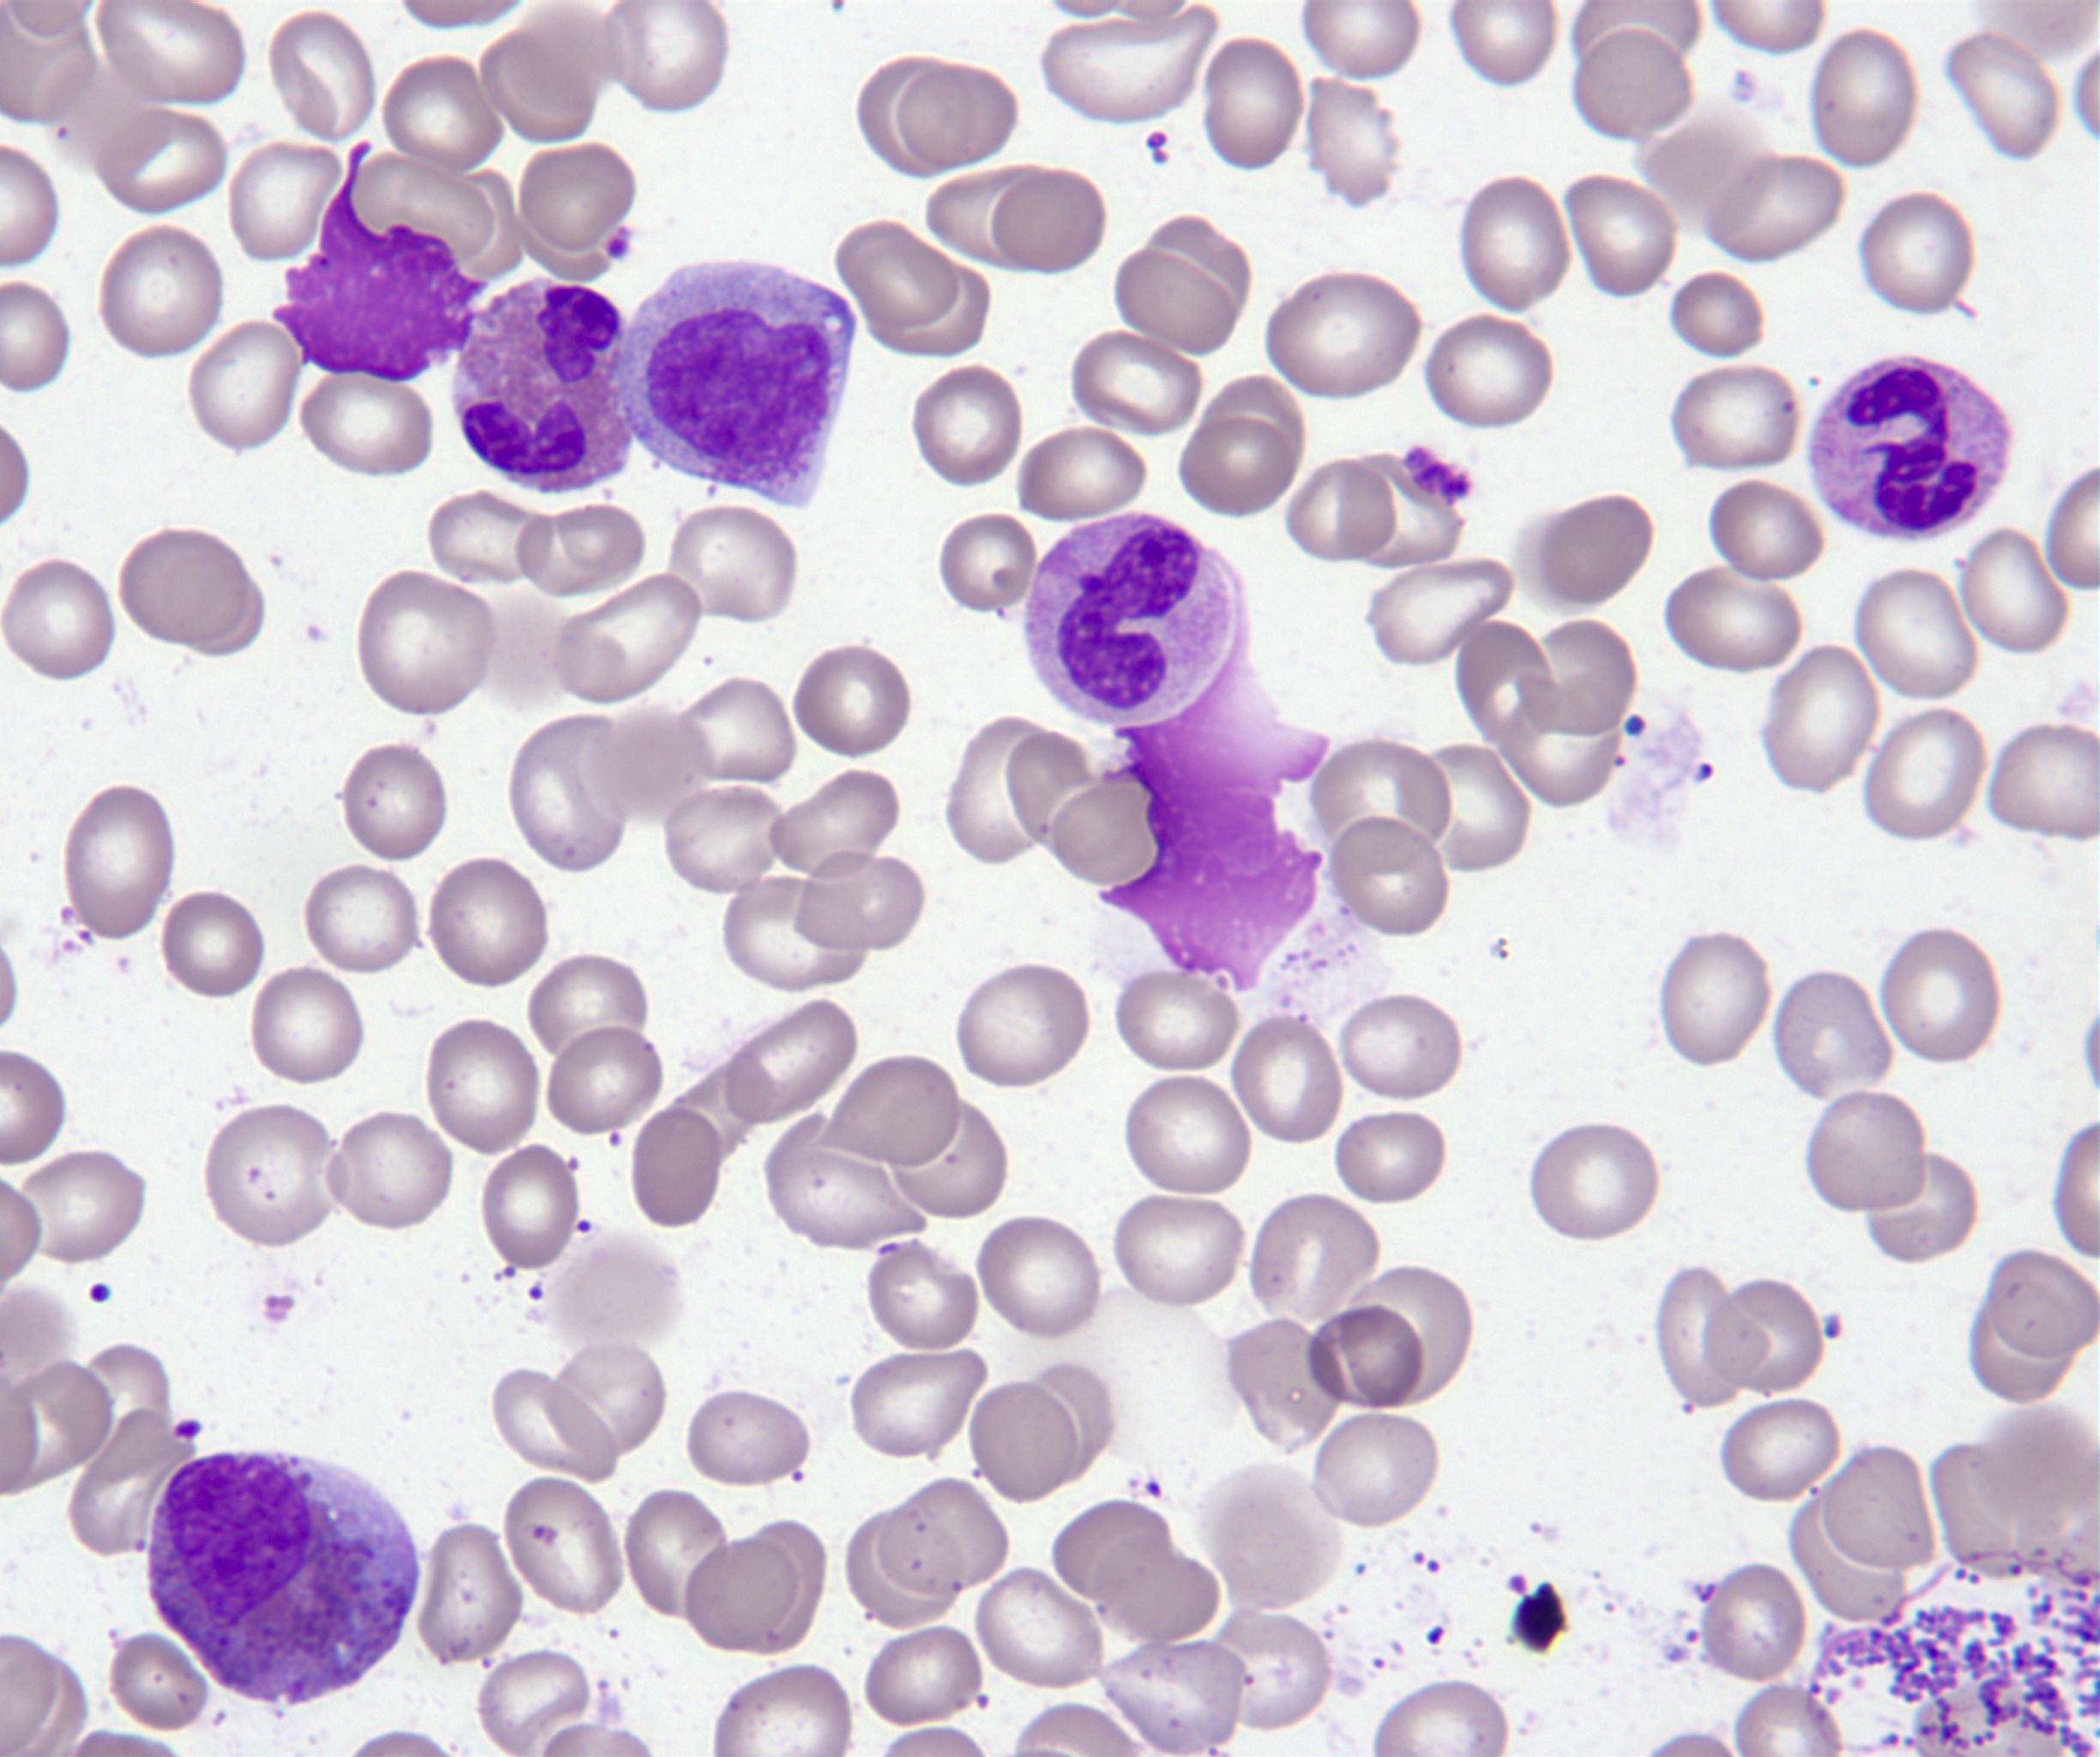3: (617, 260, 856, 508)
5: (1026, 515, 1237, 729)
6: (1810, 354, 2013, 541)
E1: (150, 1453, 419, 1706)
E4: (452, 276, 633, 492)
x: (1099, 621, 1329, 989), (272, 141, 488, 382)
